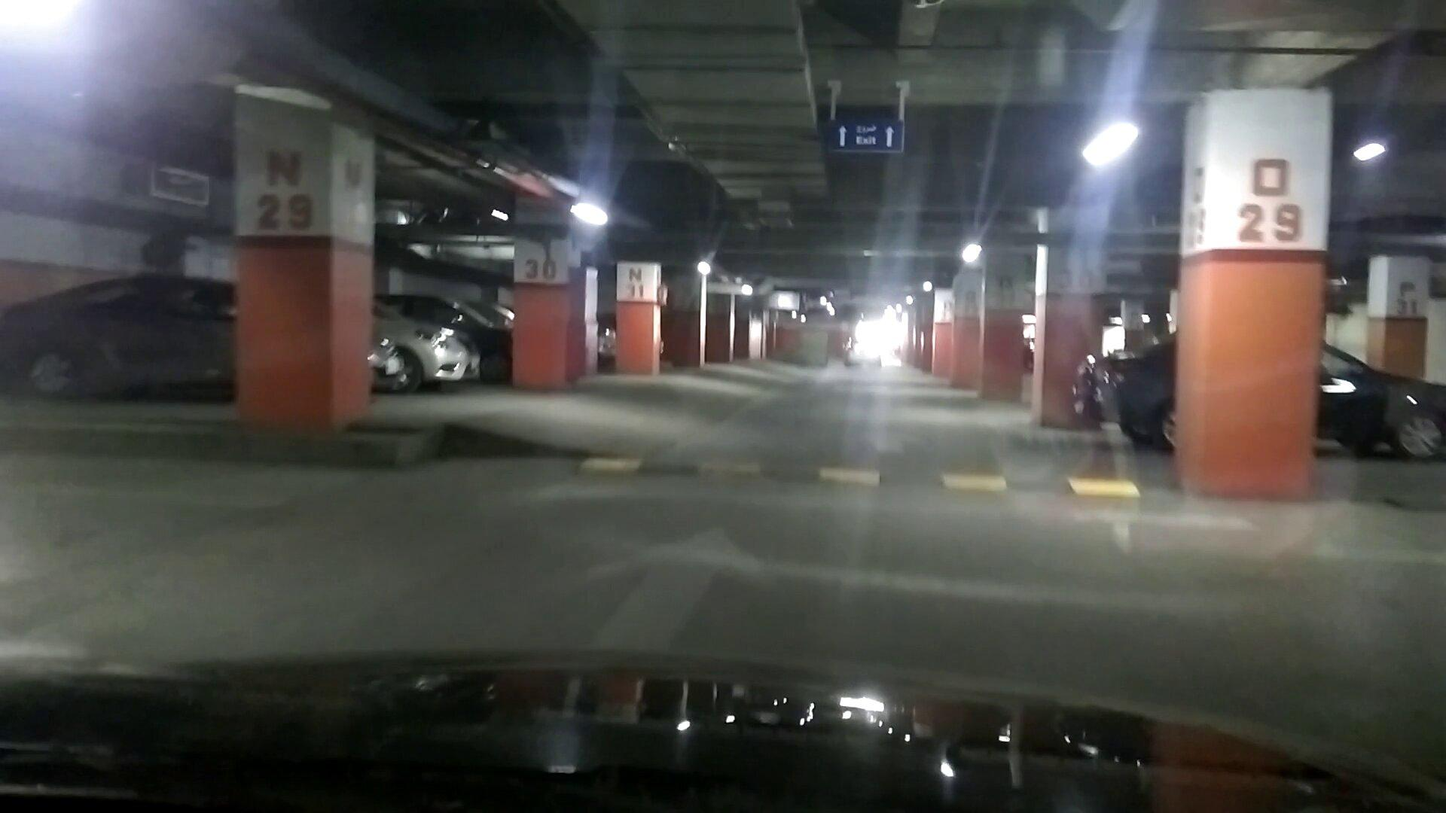Bump: (441, 443, 1191, 520)
